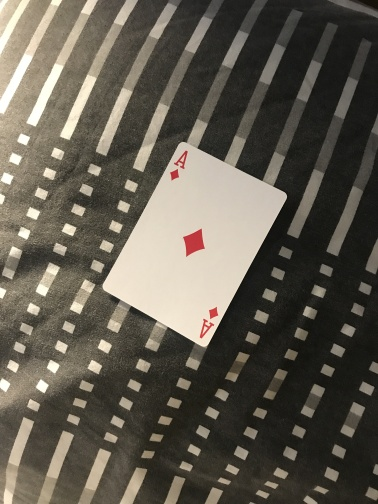ace: (101, 141, 289, 349)
